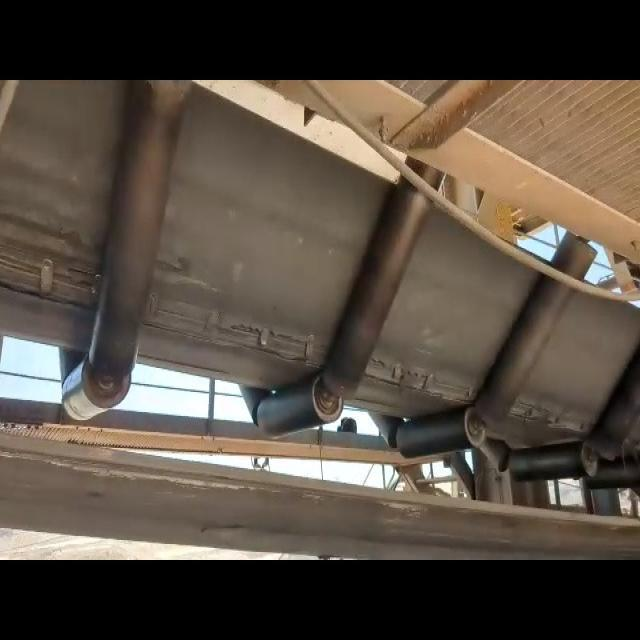Tear: (140, 291, 332, 372), (0, 257, 107, 321), (362, 353, 482, 409), (506, 389, 596, 437)
Wear: (0, 198, 107, 276), (147, 246, 216, 293)
